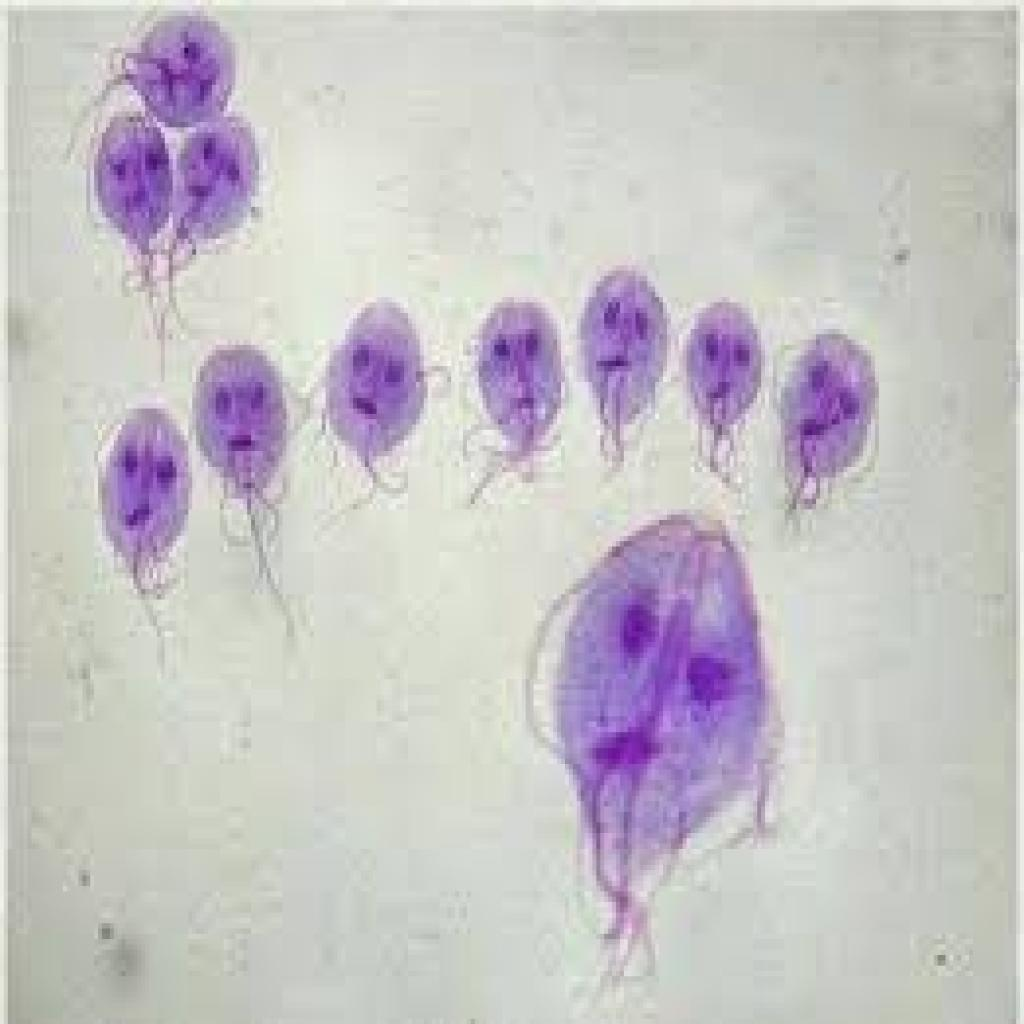Giardia: (530, 509, 788, 987), (192, 340, 306, 610), (314, 292, 443, 530), (90, 398, 192, 658), (773, 313, 887, 541), (577, 265, 675, 488), (467, 292, 557, 514), (86, 112, 169, 340), (172, 116, 262, 324), (679, 292, 757, 504), (118, 11, 243, 127)
